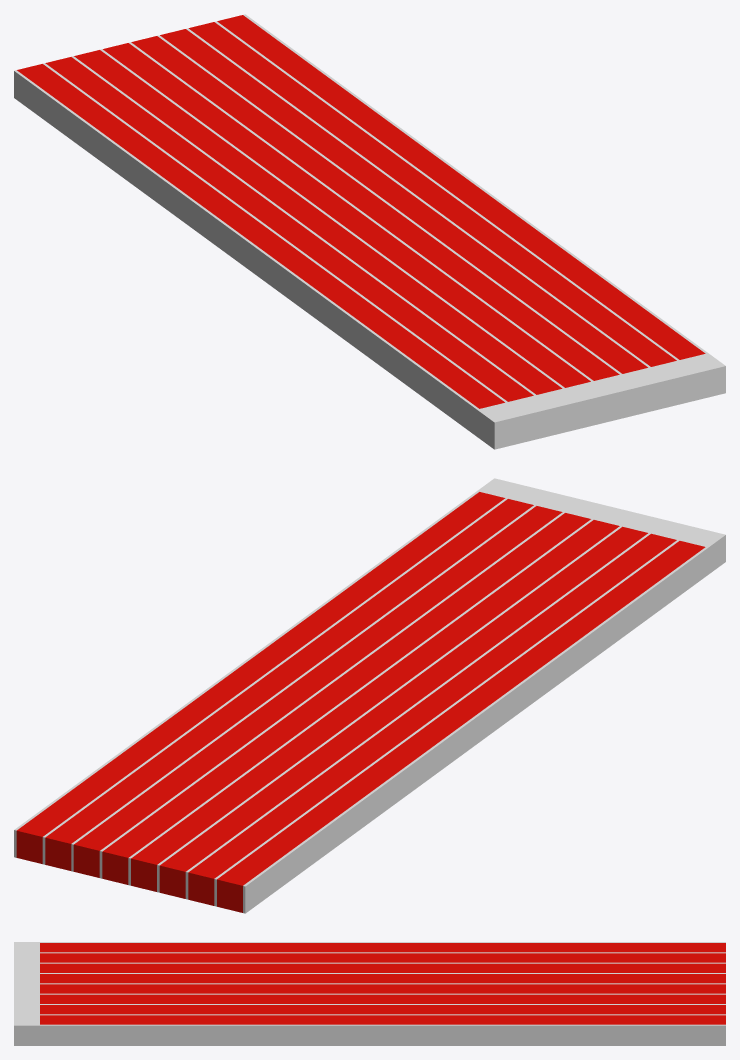
The model's file is TR_WaitingRoom_Floor_8.fbx.
3 views of the same model, one above another, from view 1: azimuth 30°, elevation 25°; view 2: azimuth 150°, elevation 25°; view 3: azimuth 270°, elevation 25° (orthographic). The views are drawn at different scales.
Parts seen in each view (by area): view 1: WaitingRoom_Floor(8); view 2: WaitingRoom_Floor(8); view 3: WaitingRoom_Floor(8).
Boxes of the visible parts, box(x1,y1,x2,y2) form: WaitingRoom_Floor(8): box(14, 14, 725, 449); WaitingRoom_Floor(8): box(14, 478, 725, 913); WaitingRoom_Floor(8): box(14, 942, 725, 1045).
Bounding box in the file's own units: 890 × 100 × 3200.
